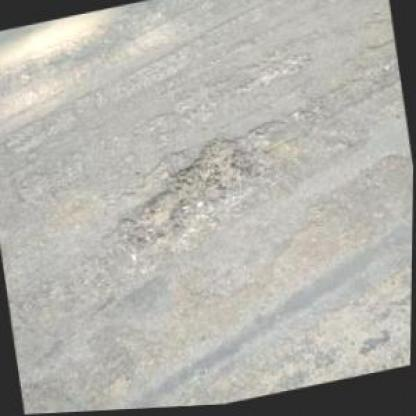pothole: (105, 129, 265, 255), (238, 53, 314, 94)
